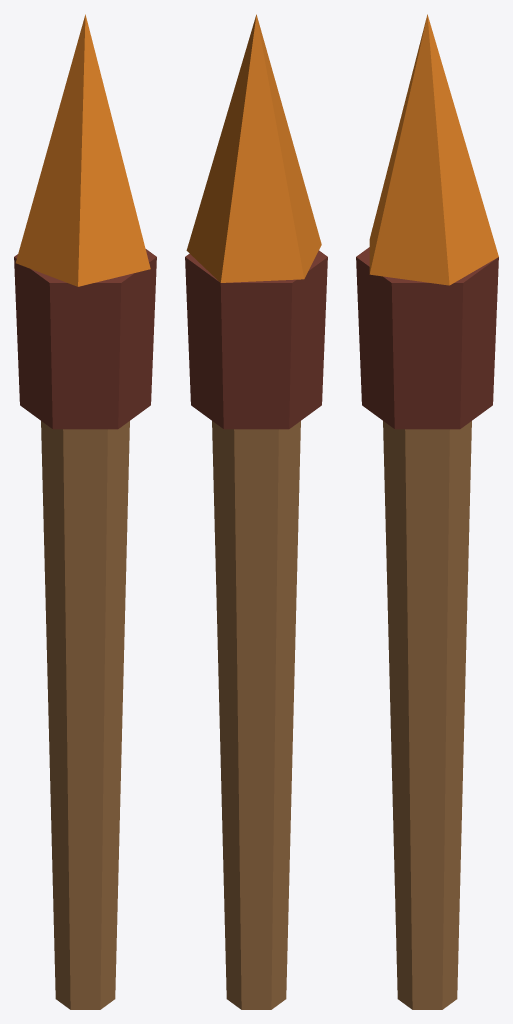
The model's file is Torch.fbx.
The picture shows the model from 3 angles, left to right: view 1: azimuth 30°, elevation 25°; view 2: azimuth 150°, elevation 25°; view 3: azimuth 270°, elevation 25°; orthographic projection.
Visible parts, largest first — view 1: Torch; view 2: Torch; view 3: Torch.
Part boxes in pixels (x1,y1,x2,y2): Torch: (14, 14, 156, 1009); Torch: (185, 14, 327, 1009); Torch: (356, 14, 498, 1009).
Size of the model in its own units: 0.4565 by 3.65 by 0.48.
1 material, 1 textured.
